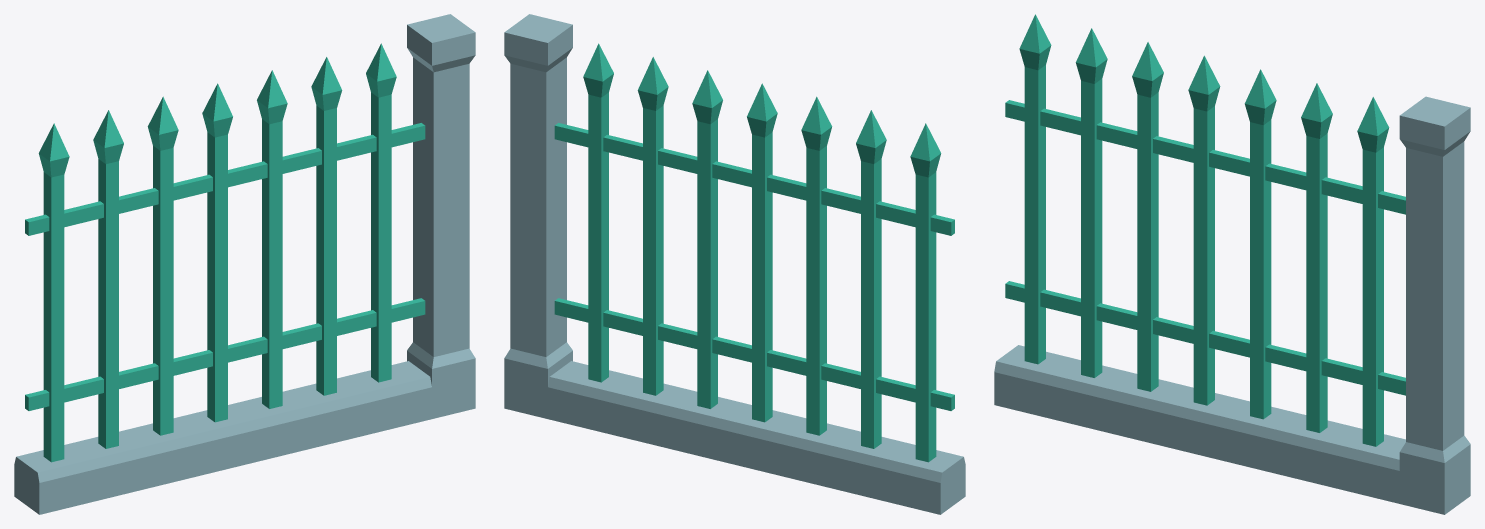
The model's file is ironFenceBorderColumn.obj.
3 views of the same model, side by side, from view 1: azimuth 30°, elevation 25°; view 2: azimuth 150°, elevation 25°; view 3: azimuth 330°, elevation 25° (orthographic). The views are drawn at different scales.
Visible parts, largest first — view 1: ironFenceBorderColumn; view 2: ironFenceBorderColumn; view 3: ironFenceBorderColumn.
Boxes of the visible parts, x1,y1,x2,y2 form: ironFenceBorderColumn: (14,14,475,514); ironFenceBorderColumn: (504,14,965,514); ironFenceBorderColumn: (994,14,1470,514).
Size of the model in its own units: 1 by 0.8239 by 0.1.
